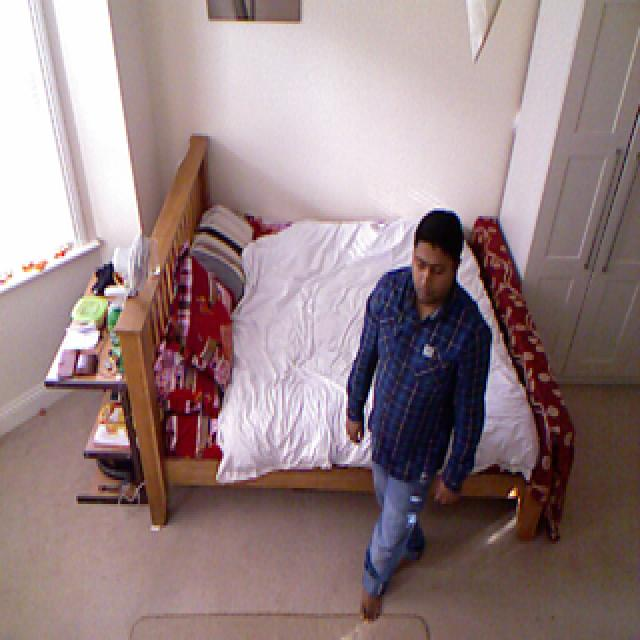standing: (346, 210, 493, 620)
